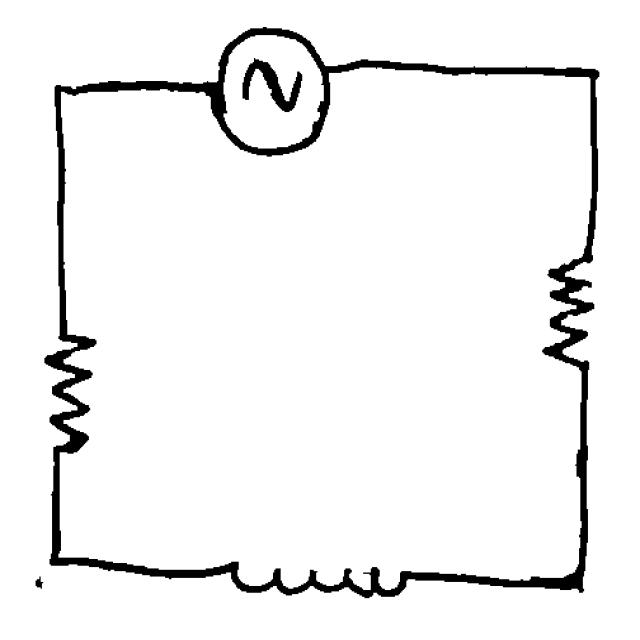ac: (201, 12, 340, 164)
inductor: (212, 539, 428, 620)
resistor: (530, 229, 606, 389), (34, 315, 105, 474)
